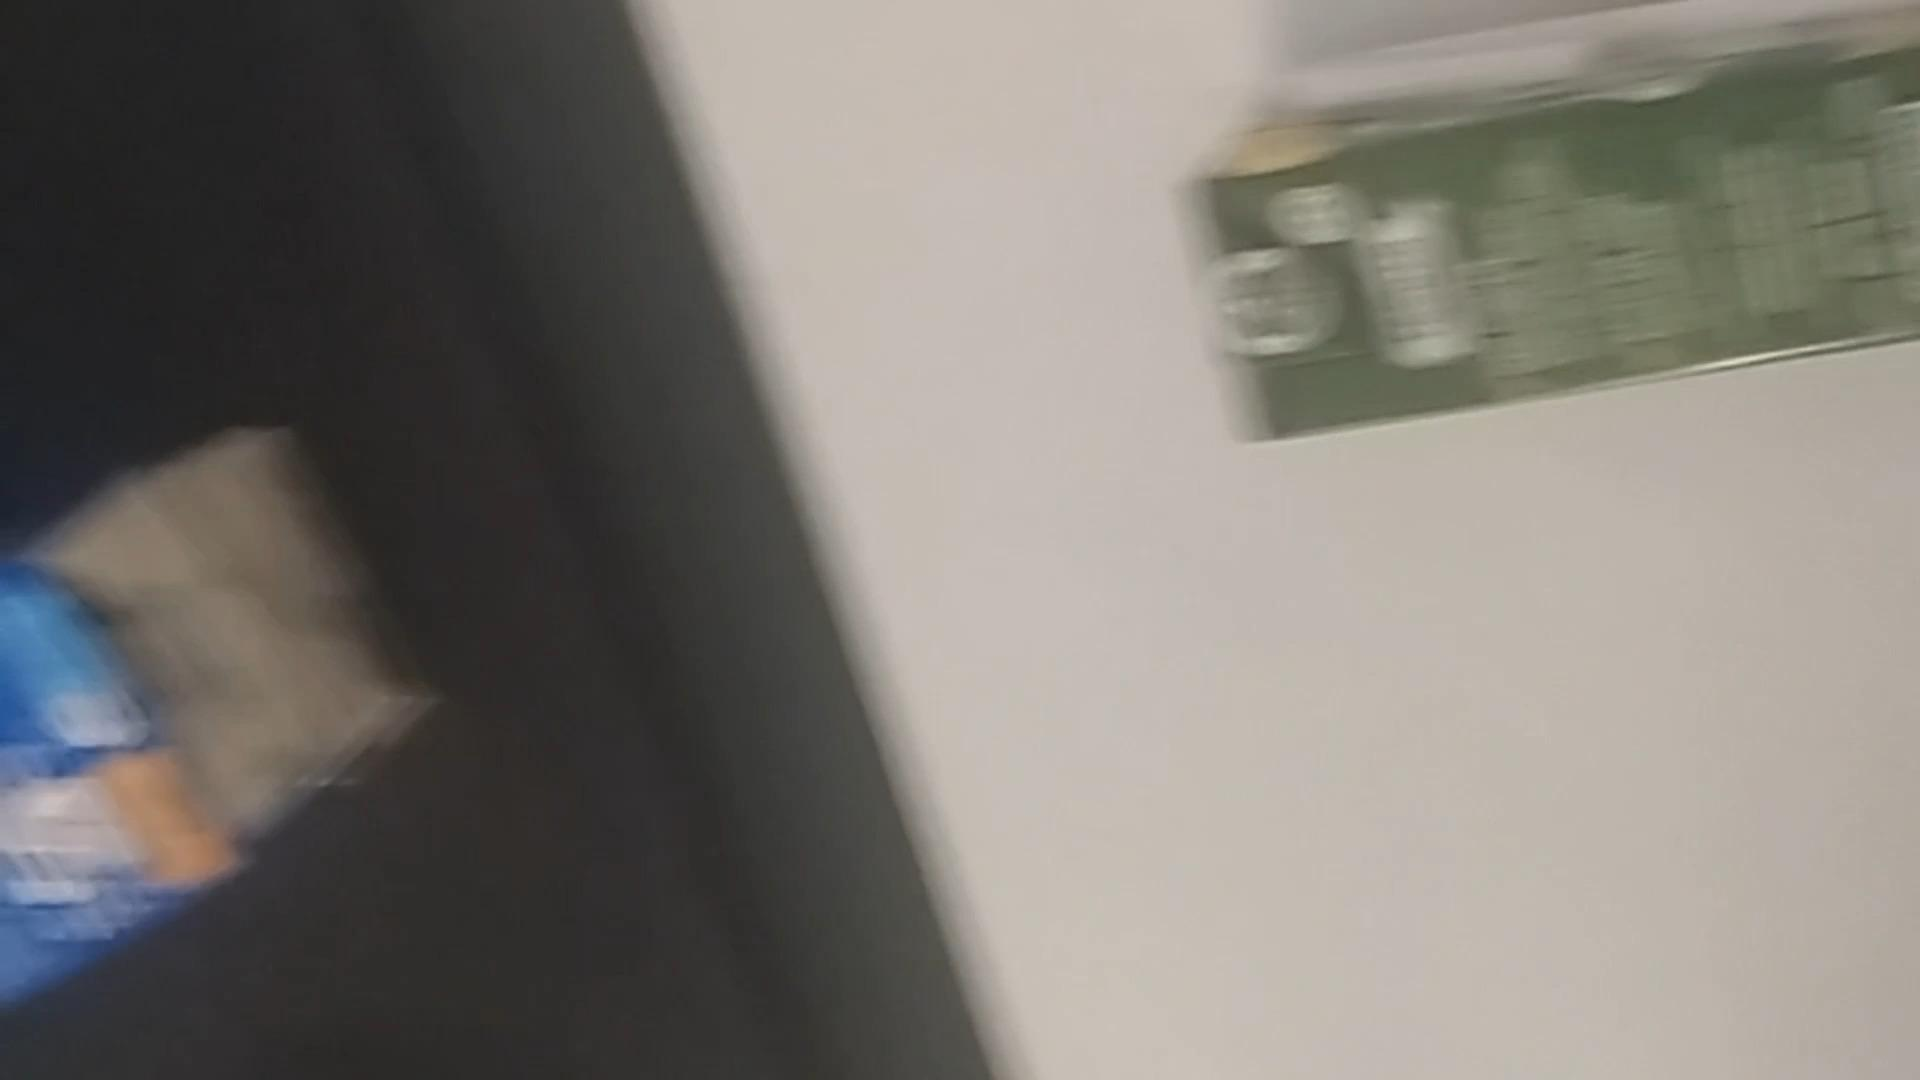coco: (1192, 0, 1920, 452)
